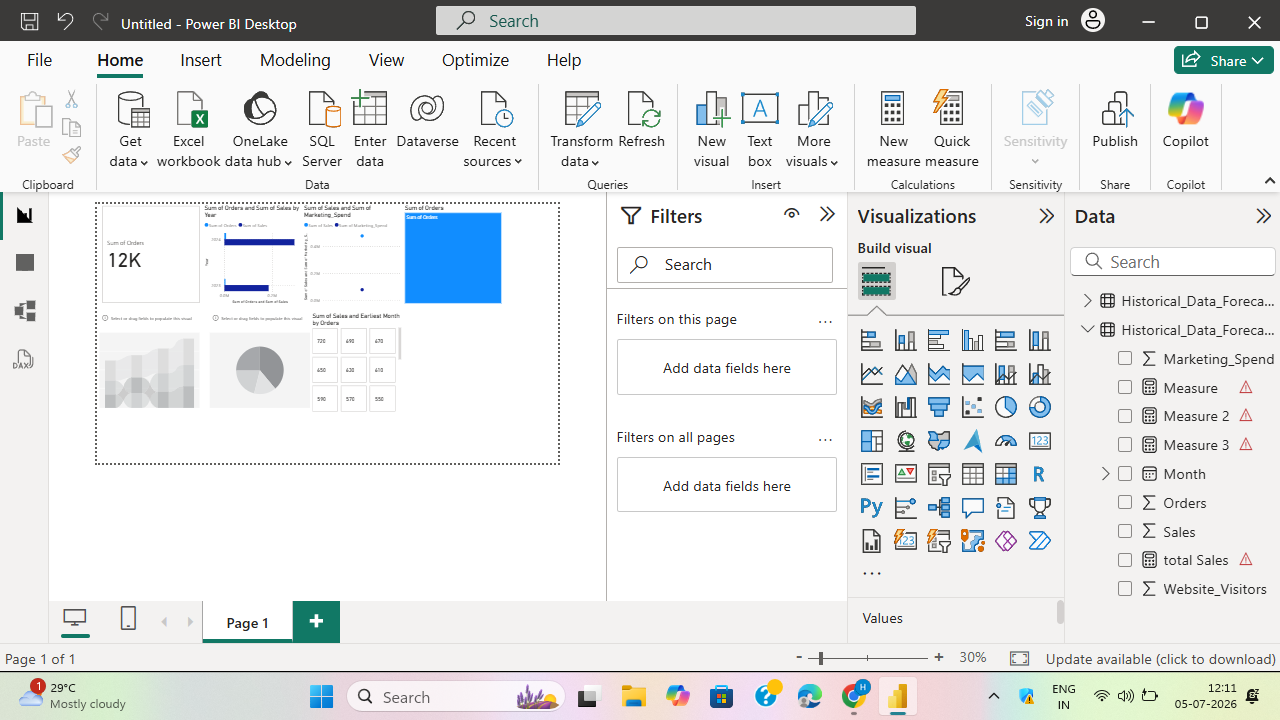

Layout of this report page (visuals, bound fields, positions):
{"tool":"powerbi","page":{"name":"Page 1","canvas":[1280,720],"ordinal":0},"visuals":[{"type":"cardVisual","fields":{"Data":["Sum(Historical_Data_Forecasting_Dataset (2).Orders)"]},"box":[10,0,280,280],"z":0},{"type":"clusteredBarChart","fields":{"Category":["Historical_Data_Forecasting_Dataset (2).Month.Variation.Date Hierarchy.Year","Historical_Data_Forecasting_Dataset (2).Month.Variation.Date Hierarchy.Quarter","Historical_Data_Forecasting_Dataset (2).Month.Variation.Date Hierarchy.Month","Historical_Data_Forecasting_Dataset (2).Month.Variation.Date Hierarchy.Day"],"Y":["Sum(Historical_Data_Forecasting_Dataset (2).Orders)","Sum(Historical_Data_Forecasting_Dataset (2).Sales)"]},"box":[292.3,0,278.5,281.3],"z":1},{"type":"lineChart","fields":{"Y":["Sum(Historical_Data_Forecasting_Dataset (2).Sales)","Sum(Historical_Data_Forecasting_Dataset (2).Marketing_Spend)"]},"box":[570.8,0,278.5,281.3],"z":2},{"type":"treemap","fields":{"Values":["Sum(Historical_Data_Forecasting_Dataset (2).Orders)"]},"box":[849.4,0,278.5,281.3],"z":3},{"type":"ribbonChart","box":[8.3,300.6,278.5,281.3],"z":4},{"type":"pieChart","box":[314.4,300.6,278.5,281.3],"z":5},{"type":"advancedSlicerVisual","fields":{"Values":["Historical_Data_Forecasting_Dataset (2).Orders"]},"box":[593,301,257,281],"z":6}]}

Visuals, with their boxes on the page's 1280x720 design canvas (x1, y1, x2, y2). These are canvas units, not pixel positions in the 1280x720 screenshot, which may show the page scaled, cropped or inside an application window:
cardVisual - Sum(Historical_Data_Forecasting_Dataset (2).Orders): {"left": 10, "top": 0, "right": 290, "bottom": 280}
clusteredBarChart - Historical_Data_Forecasting_Dataset (2).Month.Variation.Date Hierarchy.Year x Historical_Data_Forecasting_Dataset (2).Month.Variation.Date Hierarchy.Quarter: {"left": 292, "top": 0, "right": 571, "bottom": 281}
lineChart - Sum(Historical_Data_Forecasting_Dataset (2).Sales) x Sum(Historical_Data_Forecasting_Dataset (2).Marketing_Spend): {"left": 571, "top": 0, "right": 849, "bottom": 281}
treemap - Sum(Historical_Data_Forecasting_Dataset (2).Orders): {"left": 849, "top": 0, "right": 1128, "bottom": 281}
ribbonChart: {"left": 8, "top": 301, "right": 287, "bottom": 582}
pieChart: {"left": 314, "top": 301, "right": 593, "bottom": 582}
advancedSlicerVisual - Historical_Data_Forecasting_Dataset (2).Orders: {"left": 593, "top": 301, "right": 850, "bottom": 582}
